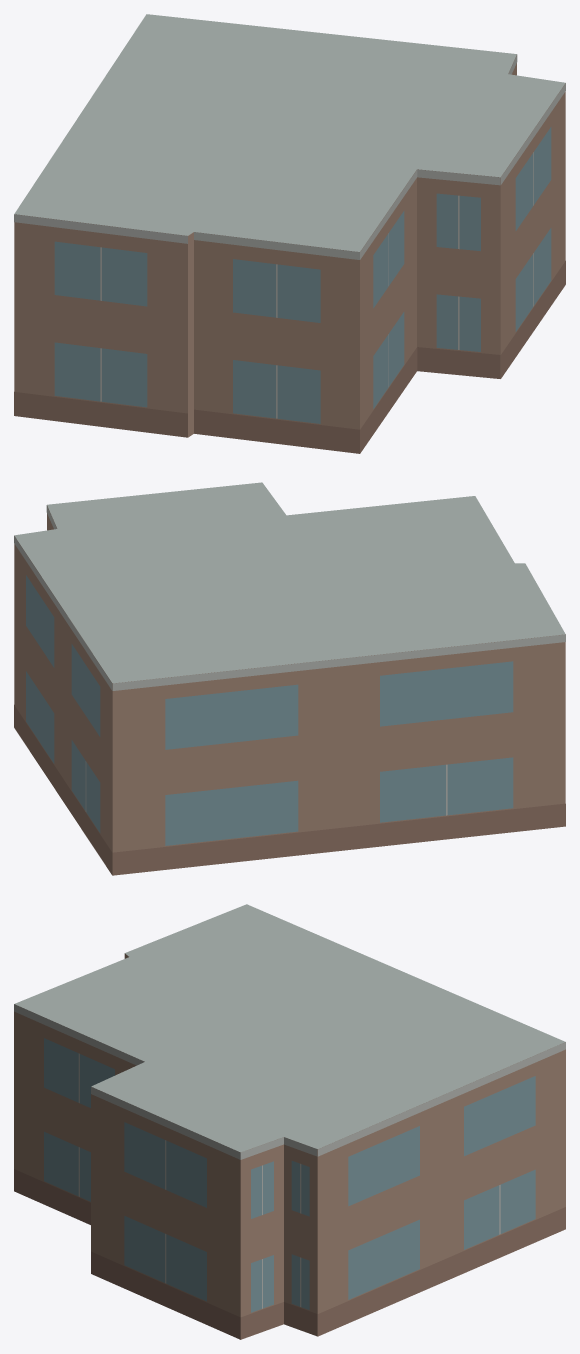
File: survey-upis-32883250.glb
3 renders of one model, top to bottom at view 1: azimuth 30°, elevation 25°; view 2: azimuth 150°, elevation 25°; view 3: azimuth 270°, elevation 25°, orthographic. The views are drawn at different scales.
Parts seen in each view (by area): view 1: survey-upis-32883250.tmp; view 2: survey-upis-32883250.tmp; view 3: survey-upis-32883250.tmp.
Boxes of the visible parts, <box> form: survey-upis-32883250.tmp: <box>14,14,565,453</box>; survey-upis-32883250.tmp: <box>14,482,565,875</box>; survey-upis-32883250.tmp: <box>14,904,565,1339</box>.
Bounding box in the file's own units: 17.36 × 6.1 × 16.3.
